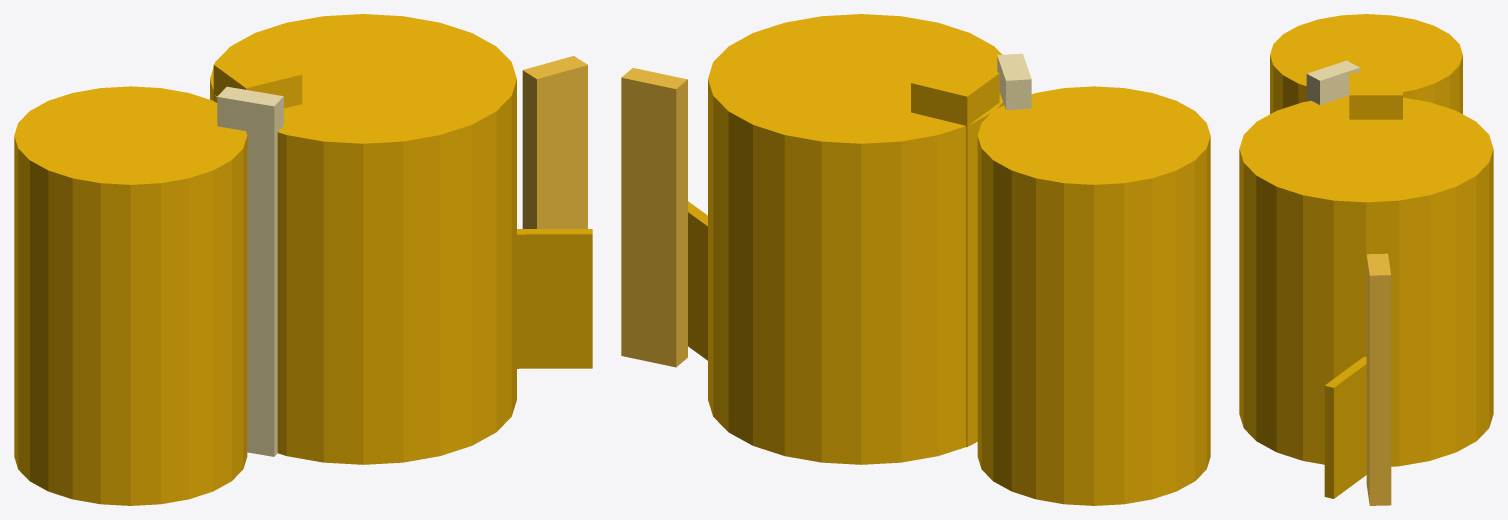
File: folie_tag_149.glb
3 renders of one model, left to right at view 1: azimuth 30°, elevation 25°; view 2: azimuth 150°, elevation 25°; view 3: azimuth 270°, elevation 25°, orthographic. The views are drawn at different scales.
Parts seen in each view (by area): view 1: folie_tag_149_00_drum, folie_tag_149_01_drum, folie_tag_149_03_fin, folie_tag_149_04_fin, folie_tag_149_05_panel, folie_tag_149_core; view 2: folie_tag_149_00_drum, folie_tag_149_01_drum, folie_tag_149_04_fin, folie_tag_149_core, folie_tag_149_05_panel, folie_tag_149_03_fin; view 3: folie_tag_149_00_drum, folie_tag_149_01_drum, folie_tag_149_04_fin, folie_tag_149_05_panel, folie_tag_149_core, folie_tag_149_03_fin.
Boxes of the visible parts, x1,y1,x2,y2 form: folie_tag_149_00_drum: (210, 14, 516, 464); folie_tag_149_01_drum: (14, 86, 247, 505); folie_tag_149_03_fin: (217, 86, 283, 456); folie_tag_149_04_fin: (522, 56, 587, 228); folie_tag_149_05_panel: (517, 229, 592, 368); folie_tag_149_core: (213, 51, 302, 108); folie_tag_149_00_drum: (708, 14, 1003, 464); folie_tag_149_01_drum: (977, 86, 1210, 505); folie_tag_149_04_fin: (621, 68, 687, 367); folie_tag_149_core: (911, 59, 999, 446); folie_tag_149_05_panel: (688, 201, 707, 360); folie_tag_149_03_fin: (997, 53, 1031, 110); folie_tag_149_00_drum: (1239, 96, 1493, 466); folie_tag_149_01_drum: (1270, 14, 1462, 113); folie_tag_149_04_fin: (1366, 253, 1391, 505); folie_tag_149_05_panel: (1324, 357, 1366, 498); folie_tag_149_core: (1349, 72, 1402, 119); folie_tag_149_03_fin: (1306, 60, 1359, 104).
Size of the model in its own units: 10.96 by 6.55 by 5.2.
